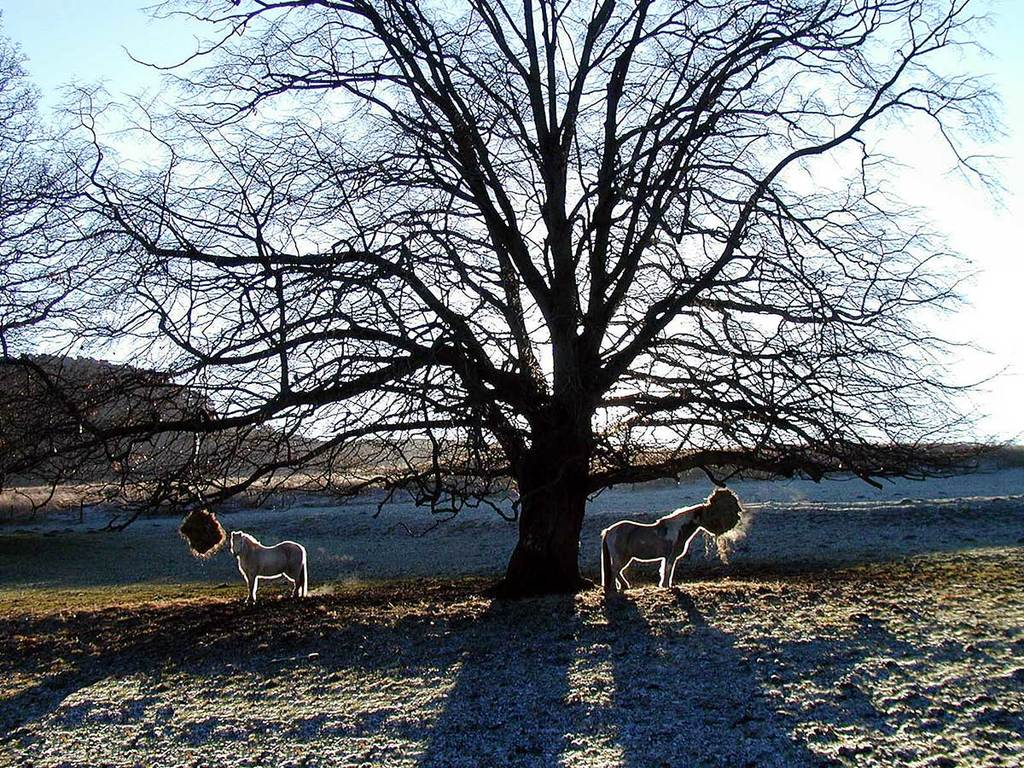horse: (227, 530, 308, 605)
